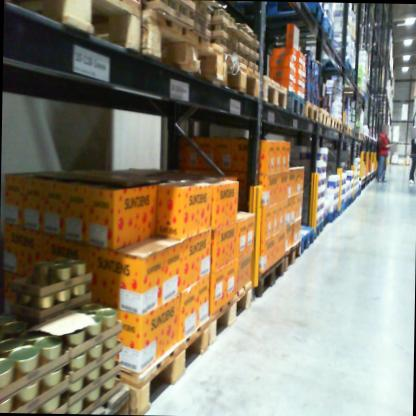pallet: (99, 311, 214, 414), (141, 1, 228, 91), (4, 0, 142, 51), (206, 271, 254, 346), (221, 40, 270, 103), (260, 10, 341, 47), (252, 245, 284, 302), (250, 2, 325, 25), (80, 381, 132, 414), (259, 71, 289, 110), (279, 235, 303, 274), (294, 220, 317, 253), (286, 90, 309, 120), (316, 58, 355, 74), (304, 97, 321, 127), (308, 215, 325, 240), (339, 84, 363, 99), (319, 102, 331, 131), (328, 110, 340, 137), (322, 208, 336, 223), (317, 213, 327, 230), (337, 116, 345, 137), (342, 118, 350, 136), (347, 123, 353, 136)
